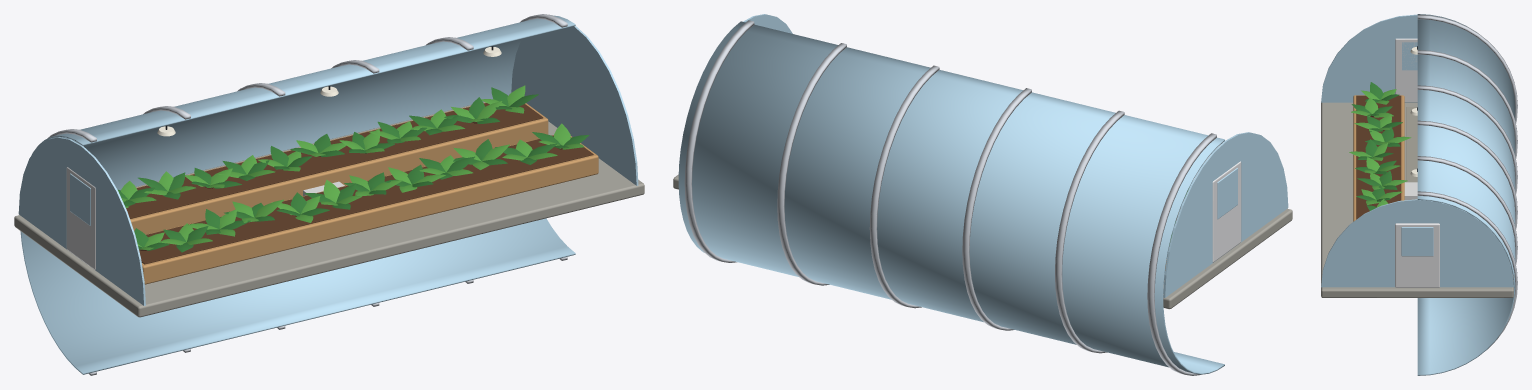
Rendered from GreenhousePro.fbx.
3 views of the same model, side by side, from view 1: azimuth 30°, elevation 25°; view 2: azimuth 150°, elevation 25°; view 3: azimuth 270°, elevation 25° (orthographic). The views are drawn at different scales.
Visible parts, largest first — view 1: Body__Glass, Body__Concrete, Body__WoodLight, Body__Soil, Body__LeafDark, Body__Leaf, Body__Chrome, Body__White; view 2: Body__Glass, Body__Chrome, Body__Concrete, Body__White; view 3: Body__Glass, Body__Concrete, Body__Chrome, Body__White, Body__Soil, Body__Leaf, Body__LeafDark, Body__WoodLight, Body__StoneLight, Origin__Pivot.
Part boxes in pixels (x1=…): Body__Glass: x1=18, y1=15, x2=638, y2=374; Body__Concrete: x1=14, y1=102, x2=644, y2=317; Body__WoodLight: x1=130, y1=102, x2=598, y2=284; Body__Soil: x1=126, y1=103, x2=593, y2=264; Body__LeafDark: x1=118, y1=87, x2=589, y2=252; Body__Leaf: x1=121, y1=85, x2=583, y2=249; Body__Chrome: x1=47, y1=14, x2=567, y2=375; Body__White: x1=66, y1=167, x2=95, y2=269; Body__Glass: x1=678, y1=14, x2=1288, y2=374; Body__Chrome: x1=684, y1=20, x2=1216, y2=375; Body__Concrete: x1=673, y1=174, x2=1292, y2=309; Body__White: x1=1212, y1=161, x2=1241, y2=262; Body__Glass: x1=1321, y1=14, x2=1515, y2=375; Body__Concrete: x1=1321, y1=102, x2=1513, y2=297; Body__Chrome: x1=1417, y1=14, x2=1517, y2=349; Body__White: x1=1395, y1=38, x2=1439, y2=287; Body__Soil: x1=1356, y1=95, x2=1401, y2=219; Body__Leaf: x1=1349, y1=89, x2=1411, y2=207; Body__LeafDark: x1=1351, y1=82, x2=1402, y2=210; Body__WoodLight: x1=1353, y1=95, x2=1404, y2=221; Body__StoneLight: x1=1406, y1=107, x2=1417, y2=182; Origin__Pivot: x1=1404, y1=182, x2=1417, y2=200.
Size of the model in its own units: 14 by 6.24 by 6.12.
